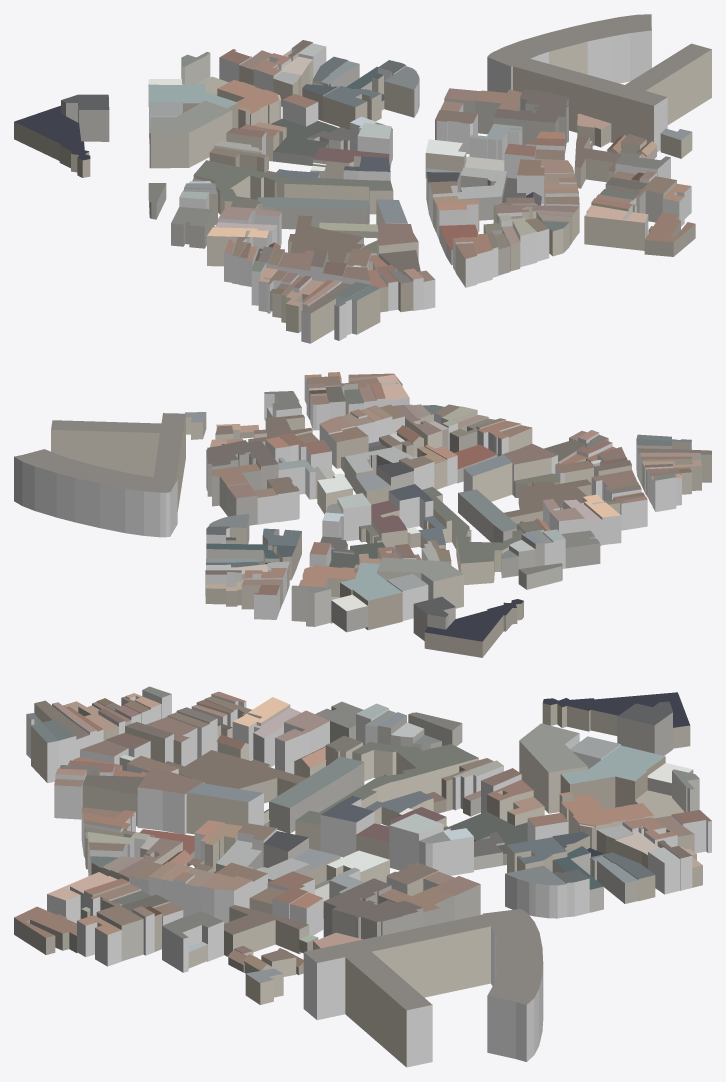
3 renders of one model, top to bottom at view 1: azimuth 30°, elevation 25°; view 2: azimuth 150°, elevation 25°; view 3: azimuth 270°, elevation 25°, orthographic. The views are drawn at different scales.
Visible parts, largest first — view 1: tuile; view 2: tuile; view 3: tuile.
Boxes of the visible parts, x1,y1,x2,y2 form: tuile: [14, 14, 711, 343]; tuile: [14, 372, 711, 657]; tuile: [14, 686, 711, 1067].
Bounding box in the file's own units: 304 × 24.83 × 268.
